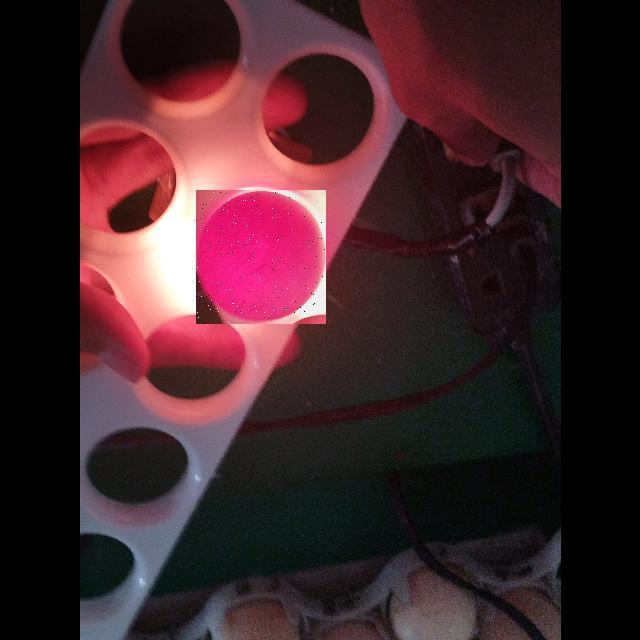Infertile: (196, 190, 326, 324)
